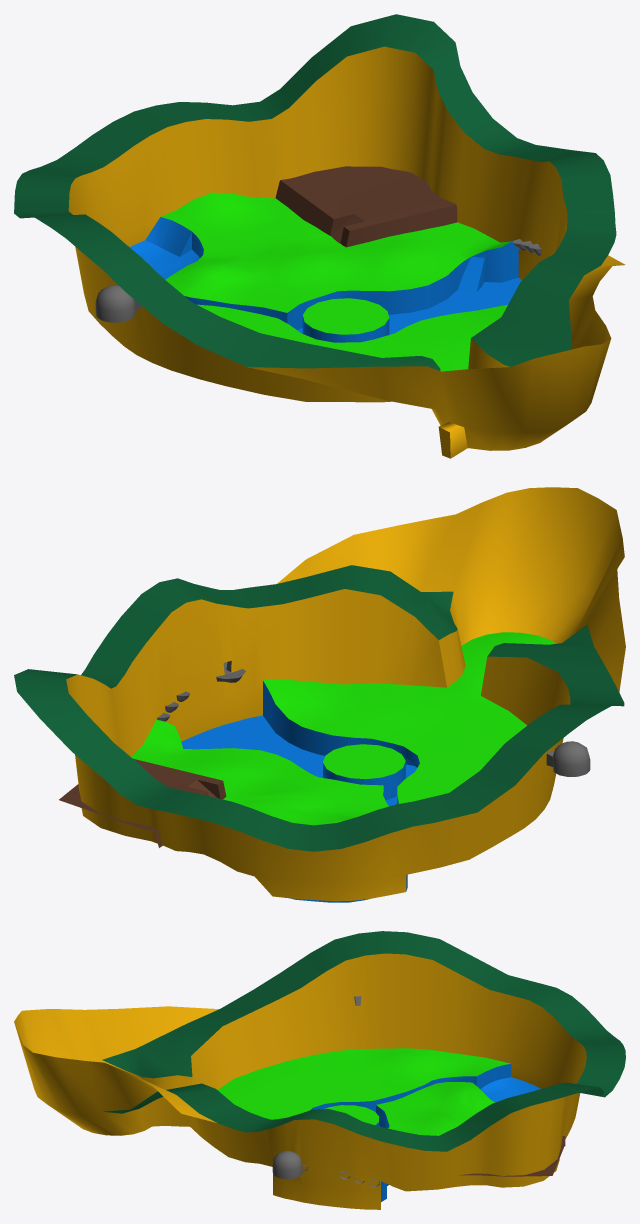
Rendered from Tutorial_Area_Model_R 1.fbx.
3 renders of one model, top to bottom at view 1: azimuth 30°, elevation 25°; view 2: azimuth 150°, elevation 25°; view 3: azimuth 270°, elevation 25°, orthographic. The views are drawn at different scales.
Visible parts, largest first — view 1: Tutorial_Area_Wall, Tutorial_Area_Top_Part, Tutorial_Area_Mesh, Tutorial_Area_Underwater, Fighting_Area, Grandpa_Tree_Area; view 2: Tutorial_Area_Wall, Tutorial_Area_Top_Part, Tutorial_Area_Mesh, Tutorial_Area_Underwater, Grandpa_Tree_Area, Fighting_Area; view 3: Tutorial_Area_Wall, Tutorial_Area_Top_Part, Tutorial_Area_Mesh, Tutorial_Area_Underwater, Grandpa_Tree_Area, Fighting_Area.
Part boxes in pixels (x1,y1,x2,y2): Tutorial_Area_Wall: (68,46,625,450); Tutorial_Area_Top_Part: (14,14,616,370); Tutorial_Area_Mesh: (161,192,513,458); Tutorial_Area_Underwater: (129,217,521,342); Fighting_Area: (275,166,457,247); Grandpa_Tree_Area: (303,298,388,334); Tutorial_Area_Wall: (66,487,625,901); Tutorial_Area_Top_Part: (14,565,624,851); Tutorial_Area_Mesh: (131,629,577,825); Tutorial_Area_Underwater: (181,681,419,902); Grandpa_Tree_Area: (323,744,405,779); Fighting_Area: (59,758,226,847); Tutorial_Area_Wall: (14,953,586,1209); Tutorial_Area_Top_Part: (102,931,625,1151); Tutorial_Area_Mesh: (218,996,510,1135); Tutorial_Area_Underwater: (310,1064,540,1201); Grandpa_Tree_Area: (324,1105,379,1124); Fighting_Area: (459,1136,565,1176).
Bounding box in the file's own units: 24028 × 7741 × 33503.
